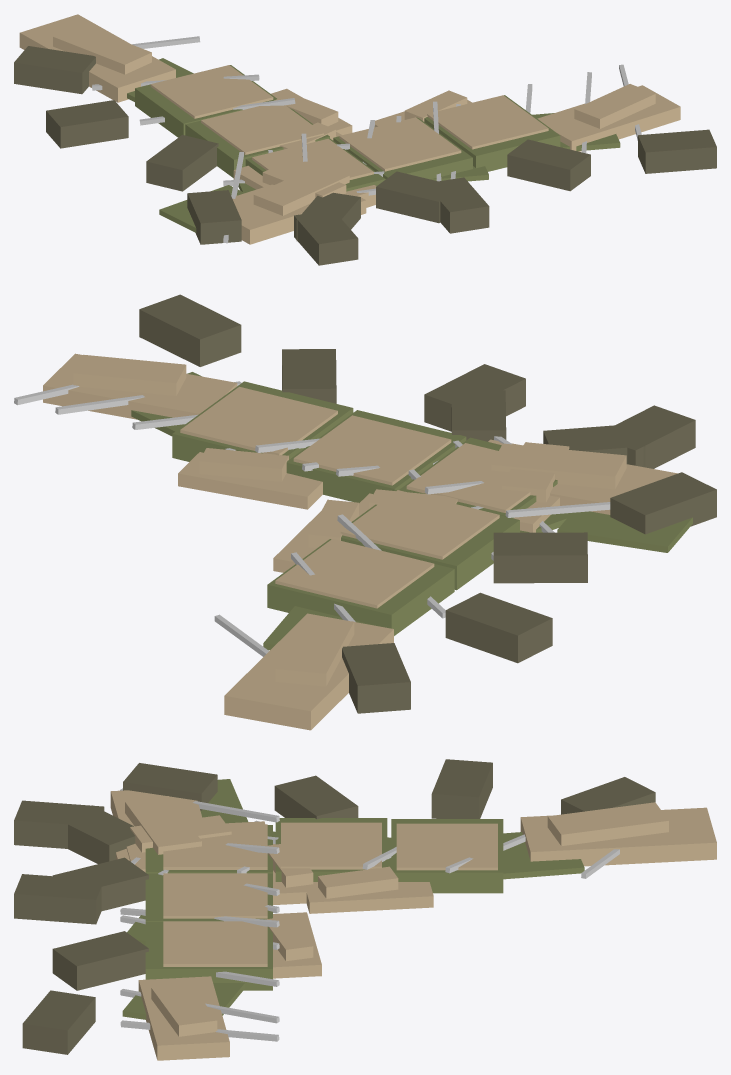
File: SM_HescoEsquina_v3_RemateSacos_e3_Brecha_LOD0.fbx
3 views of the same model, one above another, from view 1: azimuth 30°, elevation 25°; view 2: azimuth 150°, elevation 25°; view 3: azimuth 270°, elevation 25° (orthographic). The views are drawn at different scales.
Parts seen in each view (by area): view 1: SM_hesco_piezas_v15_LOD0; view 2: SM_hesco_piezas_v15_LOD0; view 3: SM_hesco_piezas_v15_LOD0.
Part boxes in pixels (x1,y1,x2,y2): SM_hesco_piezas_v15_LOD0: (14,14,716,265); SM_hesco_piezas_v15_LOD0: (14,294,716,730); SM_hesco_piezas_v15_LOD0: (14,759,716,1060).
Size of the model in its own units: 6.29 by 0.3263 by 6.74.
